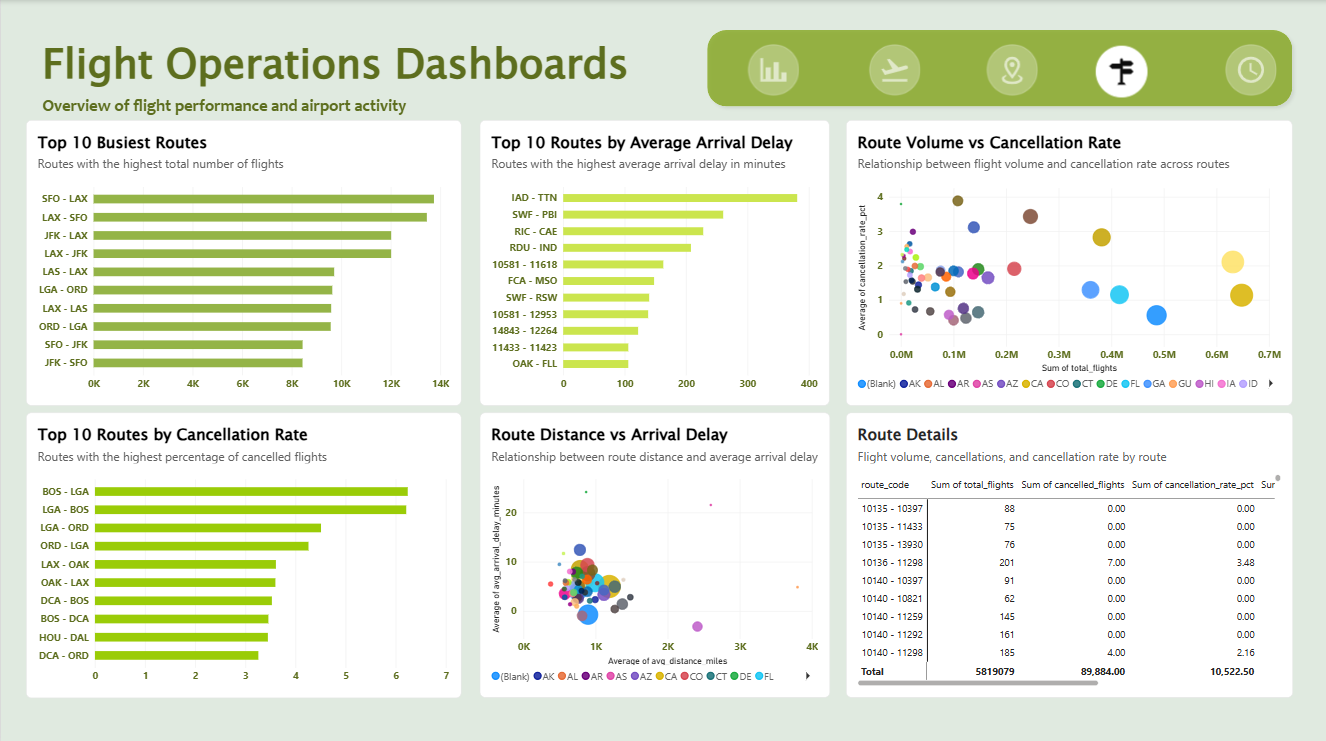

Layout of this report page (visuals, bound fields, positions):
{"tool":"powerbi","page":{"name":"Routes","canvas":[1920,1080],"ordinal":3},"visuals":[{"type":"clusteredBarChart","title":"Top 10 Busiest Routes","fields":{"Category":["vw_route_performance.route_code"],"Y":["Sum(vw_route_performance.total_flights)"]},"box":[36.7,173.3,630,413.3],"z":0},{"type":"actionButton","title":"Route_a","box":[1547.5,59,150,87.5],"z":1000,"group":"g2"},{"type":"clusteredBarChart","title":"Top 10 Routes by Cancellation Rate","fields":{"Category":["vw_top10_route_cancellation.route_code"],"Y":["Avg(vw_top10_route_cancellation.cancellation_rate_pct)"]},"box":[36.7,596.7,630,413.3],"z":1000},{"type":"actionButton","title":"delay","box":[1737,53.1,148,98],"z":1500,"group":"g1"},{"type":"clusteredBarChart","title":"Top 10 Routes by Average Arrival Delay","fields":{"Category":["vw_route_performance.route_code"],"Y":["Avg(vw_route_performance.avg_arrival_delay_minutes)"]},"box":[693.3,173.3,506.7,413.3],"z":2000},{"type":"actionButton","title":"airport","box":[1391,53.1,148,98],"z":3000,"group":"g1"},{"type":"scatterChart","title":"Route Distance vs Arrival Delay","fields":{"Series":["vw_route_performance.origin_state"],"Size":["Sum(vw_route_performance.total_flights)"],"X":["Avg(vw_route_performance.avg_distance_miles)"],"Y":["Avg(vw_route_performance.avg_arrival_delay_minutes)"]},"box":[693,597,507,413],"z":3000},{"type":"actionButton","title":"airplane","box":[1220.6,53.1,148,98],"z":4000,"group":"g1"},{"type":"scatterChart","title":"Route Volume vs Cancellation Rate","fields":{"Series":["vw_route_performance.origin_state"],"Size":["Sum(vw_route_performance.total_flights)"],"X":["Sum(vw_route_performance.total_flights)"],"Y":["Avg(vw_route_performance.cancellation_rate_pct)"]},"box":[1223.3,173.3,646.7,413.3],"z":4000},{"type":"actionButton","title":"Dash","box":[1045,52.5,148,98],"z":5000,"group":"g1"},{"type":"pivotTable","title":"Route Details","fields":{"Rows":["vw_route_performance.route_code"],"Values":["Sum(vw_route_performance.total_flights)","Sum(vw_route_performance.cancelled_flights)","Sum(vw_route_performance.cancellation_rate_pct)","Sum(vw_route_performance.avg_arrival_delay_minutes)","Sum(vw_route_performance.avg_distance_miles)"]},"box":[1223,597,647,413],"z":5000},{"type":"shape","box":[1013.8,33.8,865,128.8],"z":6000},{"type":"group","id":"g1","title":"Group_nav_inactive","box":[1045,52.5,840,100],"z":7000},{"type":"group","id":"g2","title":"Group_nav_active","box":[1045,50.6,825,95.9],"z":8000},{"type":"group","id":"g3","title":"Group 1","box":[60,48,900,122],"z":8001},{"type":"textbox","box":[60,48,900,102],"z":10000,"group":"g3"},{"type":"textbox","box":[60,136,855,34],"z":11000,"group":"g3"}]}

Visuals, with their boxes in screenshot pixels (x1, y1, x2, y2), scaled from the page's 1920x1080 canvas onto the 1326x741 screenshot:
"Top 10 Busiest Routes" clusteredBarChart: Rect(25, 119, 460, 402)
"Route_a" actionButton: Rect(1069, 40, 1172, 101)
"Top 10 Routes by Cancellation Rate" clusteredBarChart: Rect(25, 409, 460, 693)
"delay" actionButton: Rect(1200, 36, 1302, 104)
"Top 10 Routes by Average Arrival Delay" clusteredBarChart: Rect(479, 119, 829, 402)
"airport" actionButton: Rect(961, 36, 1063, 104)
"Route Distance vs Arrival Delay" scatterChart: Rect(479, 410, 829, 693)
"airplane" actionButton: Rect(843, 36, 945, 104)
"Route Volume vs Cancellation Rate" scatterChart: Rect(845, 119, 1291, 402)
"Dash" actionButton: Rect(722, 36, 824, 103)
"Route Details" pivotTable: Rect(845, 410, 1291, 693)
shape: Rect(700, 23, 1298, 112)
"Group_nav_inactive" group: Rect(722, 36, 1302, 105)
"Group_nav_active" group: Rect(722, 35, 1291, 101)
"Group 1" group: Rect(41, 33, 663, 117)
textbox: Rect(41, 33, 663, 103)
textbox: Rect(41, 93, 632, 117)
